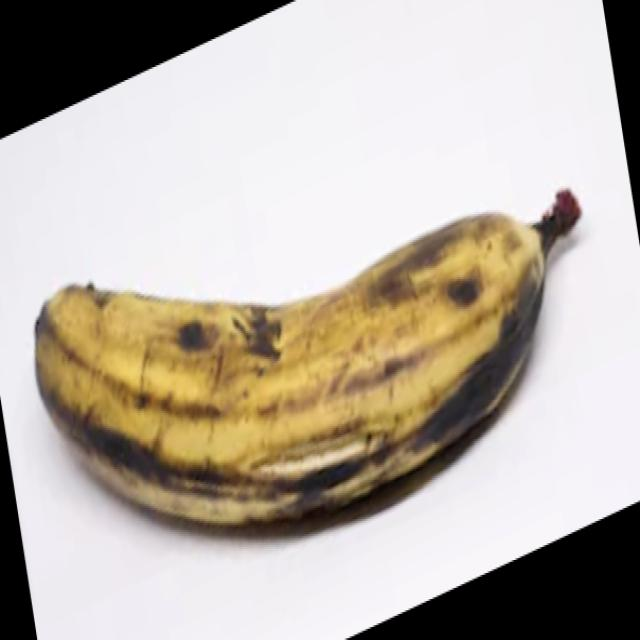overripe: (30, 183, 585, 542)
